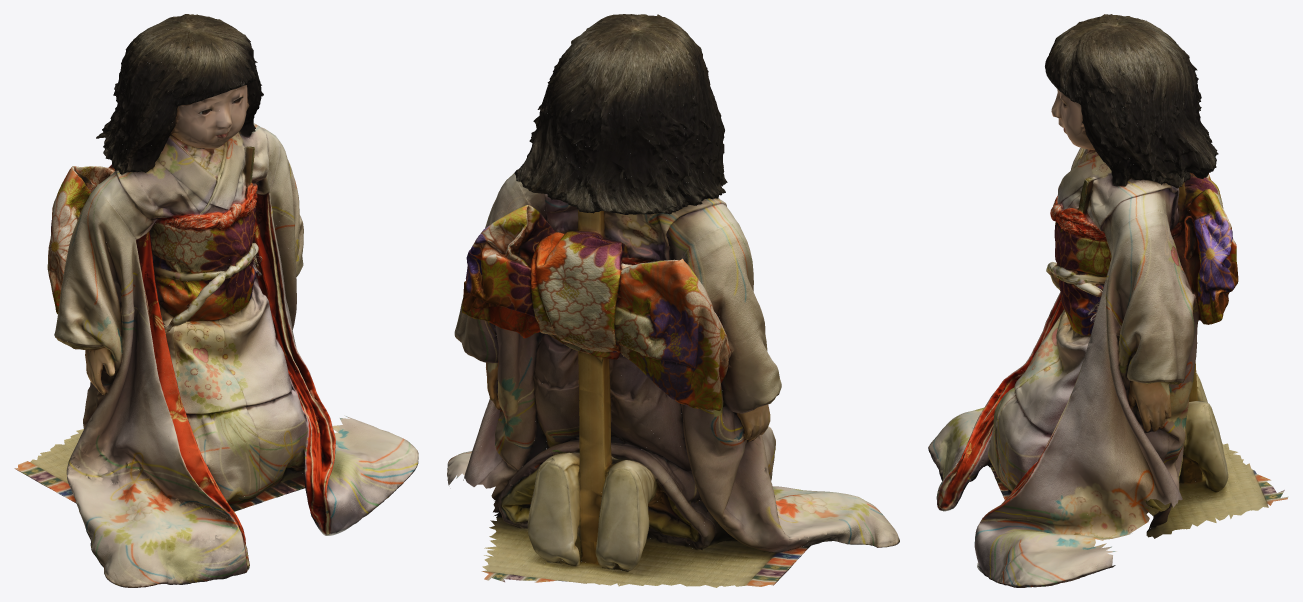
File: doll.glb
3 renders of one model, left to right at view 1: azimuth 30°, elevation 25°; view 2: azimuth 150°, elevation 25°; view 3: azimuth 270°, elevation 25°, orthographic. The views are drawn at different scales.
Parts seen in each view (by area): view 1: Ichimatsu_scan_4, Ichimatsu_scan_3, Ichimatsu_scan_5, Ichimatsu_scan_1, Ichimatsu_scan_2, Ichimatsu_scan_0; view 2: Ichimatsu_scan_2, Ichimatsu_scan_1, Ichimatsu_scan_4, Ichimatsu_scan_5, Ichimatsu_scan_3, Ichimatsu_scan_0; view 3: Ichimatsu_scan_0, Ichimatsu_scan_3, Ichimatsu_scan_2, Ichimatsu_scan_5, Ichimatsu_scan_1, Ichimatsu_scan_4.
Boxes of the visible parts, <box> form: Ichimatsu_scan_4: <box>14,36,287,528</box>; Ichimatsu_scan_3: <box>67,28,345,515</box>; Ichimatsu_scan_5: <box>54,14,320,571</box>; Ichimatsu_scan_1: <box>40,39,325,587</box>; Ichimatsu_scan_2: <box>48,14,399,587</box>; Ichimatsu_scan_0: <box>55,83,418,554</box>; Ichimatsu_scan_2: <box>472,33,899,571</box>; Ichimatsu_scan_1: <box>486,45,870,587</box>; Ichimatsu_scan_4: <box>465,135,807,586</box>; Ichimatsu_scan_5: <box>454,14,808,571</box>; Ichimatsu_scan_3: <box>462,14,786,565</box>; Ichimatsu_scan_0: <box>447,124,812,586</box>; Ichimatsu_scan_0: <box>939,106,1271,587</box>; Ichimatsu_scan_3: <box>978,14,1236,535</box>; Ichimatsu_scan_2: <box>966,16,1251,584</box>; Ichimatsu_scan_5: <box>937,19,1230,511</box>; Ichimatsu_scan_1: <box>928,45,1231,508</box>; Ichimatsu_scan_4: <box>955,56,1288,532</box>.
Bounding box in the file's own units: 0.5391 × 0.72 × 0.4677.
Materials: 6 (6 with a texture image).
